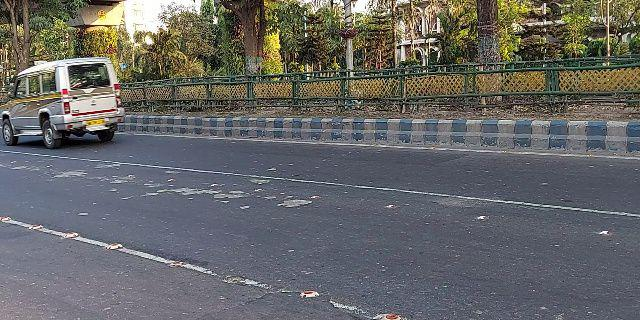Car: (1, 56, 126, 154)
